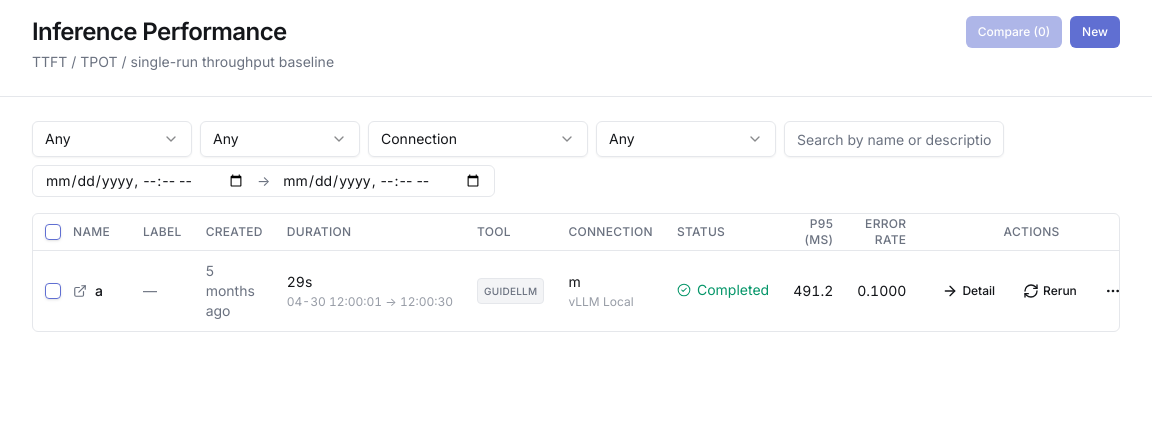
BenchmarkListShell › clears the selection when a filter changes (no stale bulk delete of hidden rows)
Click the checkbox named "select a": (53, 290) [45,282,61,298]
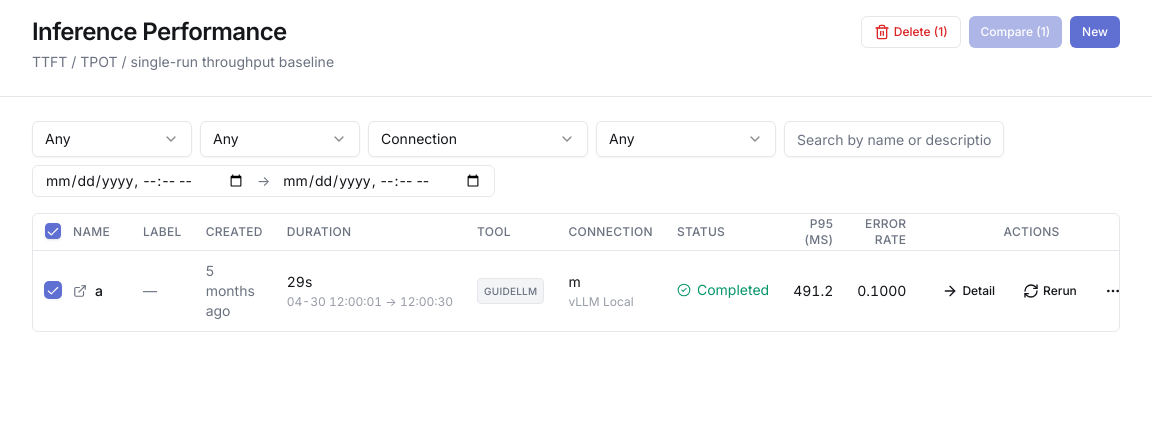
Result: the button "Delete (1)" is shown at [861,16,960,48]
Note: Change the Status filter → URL params change → selection must reset.
Click the 2nd dropdown labelled "Any": (280, 139) [200,121,360,157]
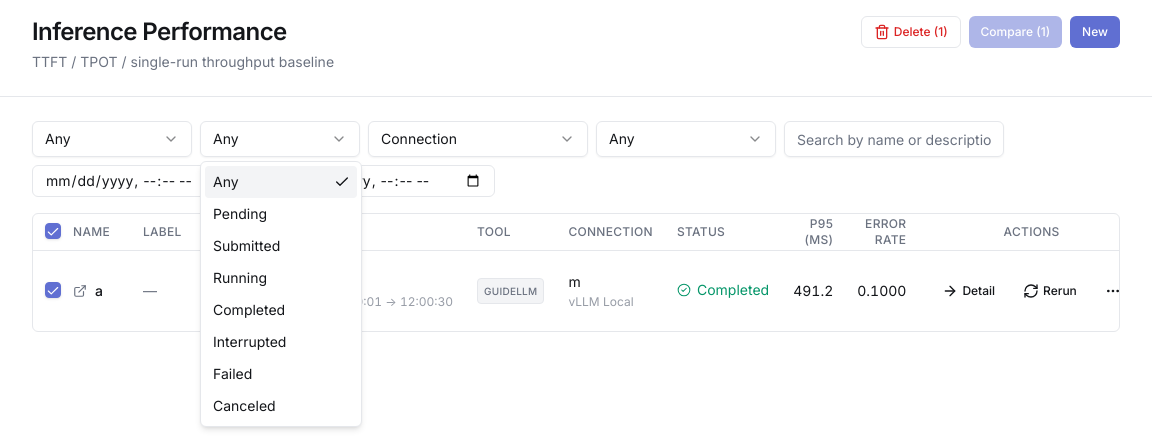
Click the option "Completed": (249, 310) [213,301,285,318]
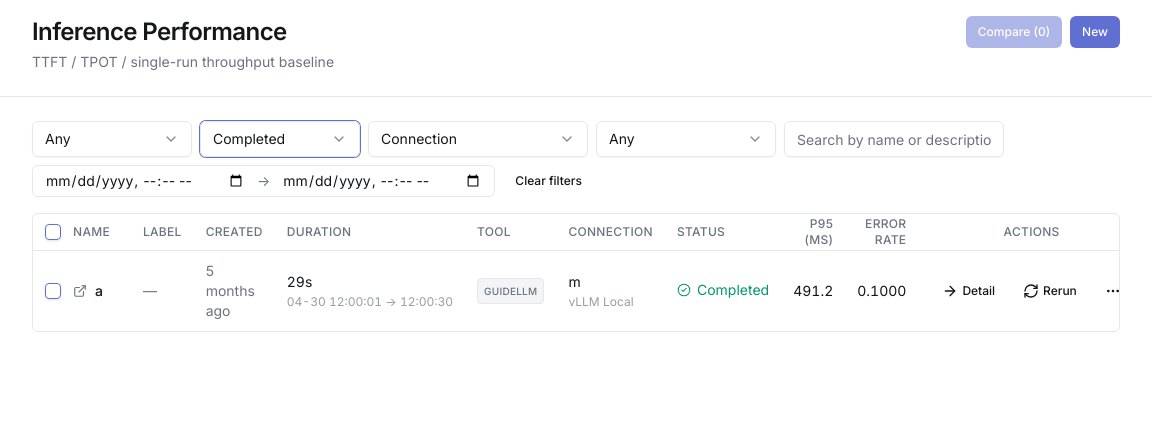
Result: the button "Delete (1)" is gone
